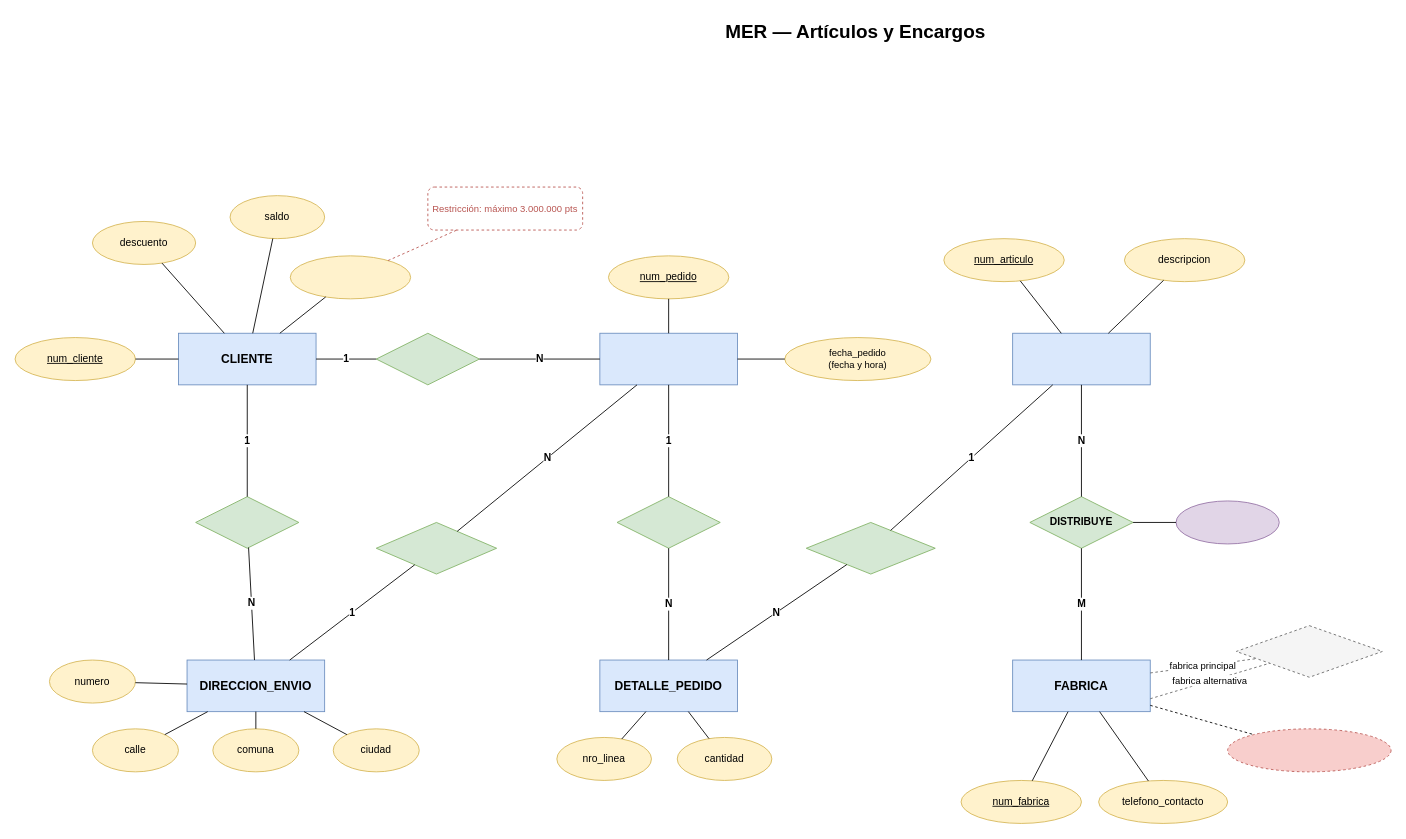
The diagram is 1406 pixels wide and 839 high, and some of its shapes have lost their labels. The shapes that lost their labels are listed below. From the top down, each one's box as (x1, y1, x2, y2) in pixels, then its label:
(289, 255, 411, 299): limite_credito
(375, 332, 479, 385): REALIZA
(599, 332, 737, 385): PEDIDO
(1012, 332, 1150, 385): ARTICULO
(195, 496, 299, 548): POSEE
(616, 496, 720, 548): CONTIENE
(1175, 500, 1279, 544): existencias
(375, 522, 497, 574): SE_ENVIA_A
(805, 522, 935, 574): CORRESPONDE_A
(1235, 625, 1382, 677): ES_ALTERNATIVA_DE (opcional)
(1227, 728, 1391, 772): total_articulos_provee (derivado)
